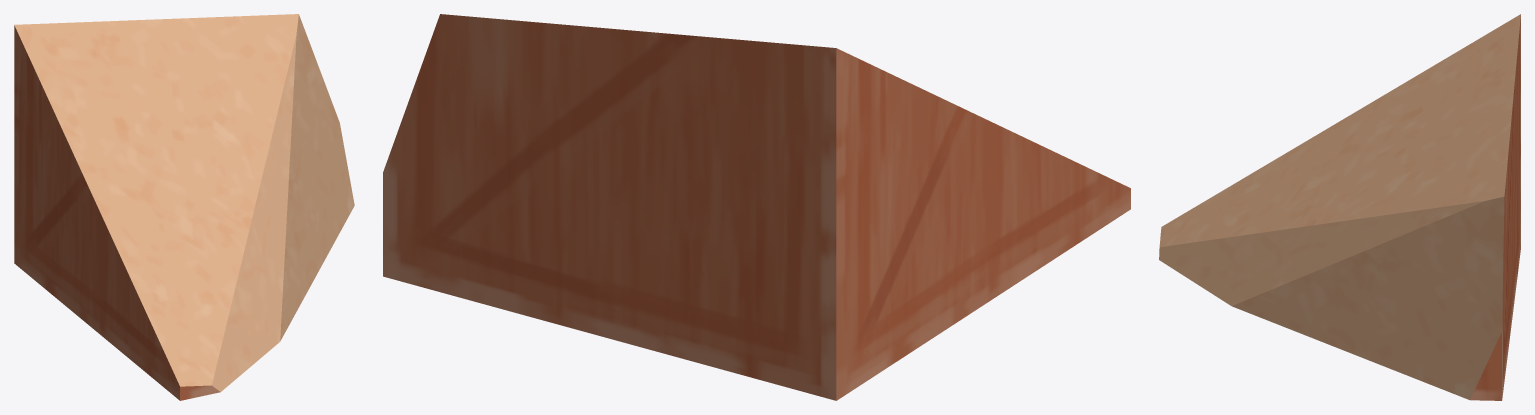
File: stack_crates_s00.fbx
3 views of the same model, side by side, from view 1: azimuth 30°, elevation 25°; view 2: azimuth 150°, elevation 25°; view 3: azimuth 270°, elevation 25° (orthographic). The views are drawn at different scales.
Parts seen in each view (by area): view 1: stack_crates_s00; view 2: stack_crates_s00; view 3: stack_crates_s00.
Part boxes in pixels (x1,y1,x2,y2): stack_crates_s00: (14, 14, 354, 400); stack_crates_s00: (383, 14, 1130, 400); stack_crates_s00: (1159, 14, 1520, 400).
Bounding box in the file's own units: 3.15 × 2.16 × 3.02.
